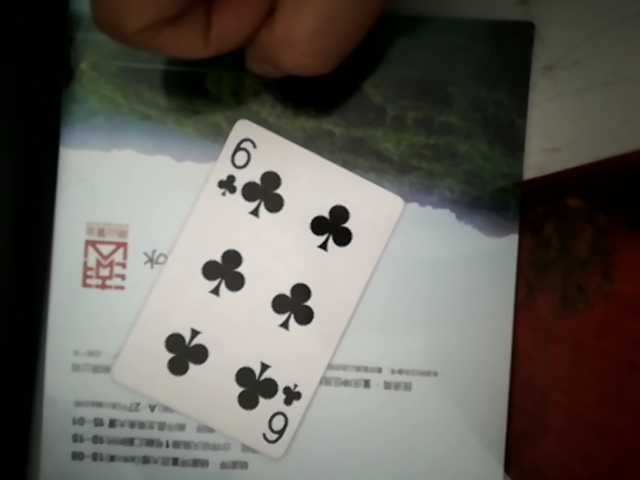mh 6: (109, 115, 393, 450)
